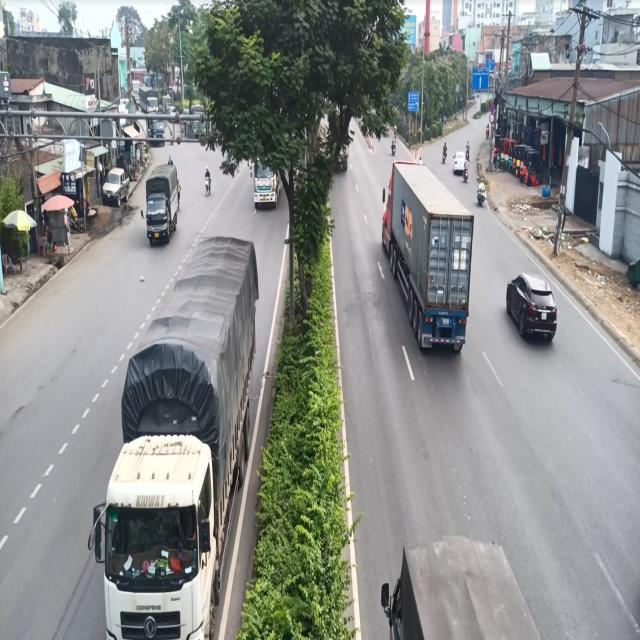car: (501, 259, 564, 357)
truck: (102, 228, 259, 640), (377, 154, 471, 362), (140, 158, 188, 249)
